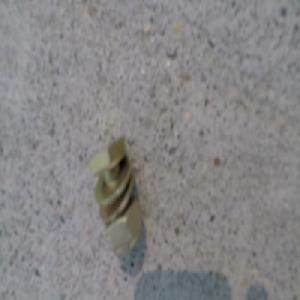BoltNutSet: (83, 135, 138, 249)
